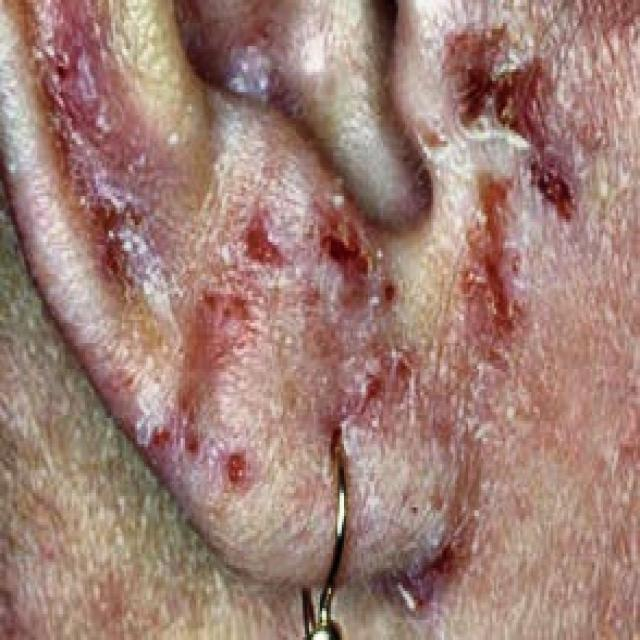Eczema: (22, 0, 584, 629)
